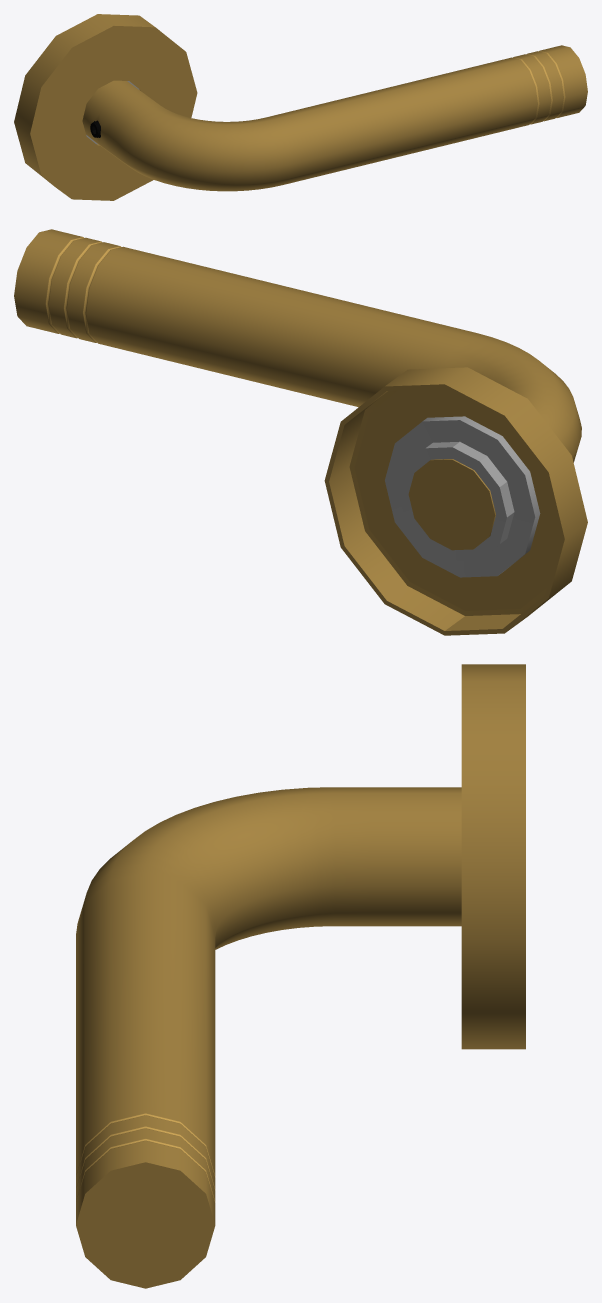
File: handle.glb
3 renders of one model, top to bottom at view 1: azimuth 30°, elevation 25°; view 2: azimuth 150°, elevation 25°; view 3: azimuth 270°, elevation 25°, orthographic. The views are drawn at different scales.
Visible parts, largest first — view 1: Handle, Escutcheons Handle; view 2: Handle, Escutcheons Handle, Washer; view 3: Handle, Escutcheons Handle.
Part boxes in pixels (x1,y1,x2,y2): Handle: [82, 45, 587, 191]; Escutcheons Handle: [14, 14, 197, 200]; Handle: [14, 229, 581, 550]; Escutcheons Handle: [324, 367, 587, 635]; Washer: [385, 416, 540, 577]; Handle: [76, 787, 461, 1288]; Escutcheons Handle: [461, 664, 525, 1049].
Bounding box in the file's own units: 0.1527 × 0.0554 × 0.0645.
